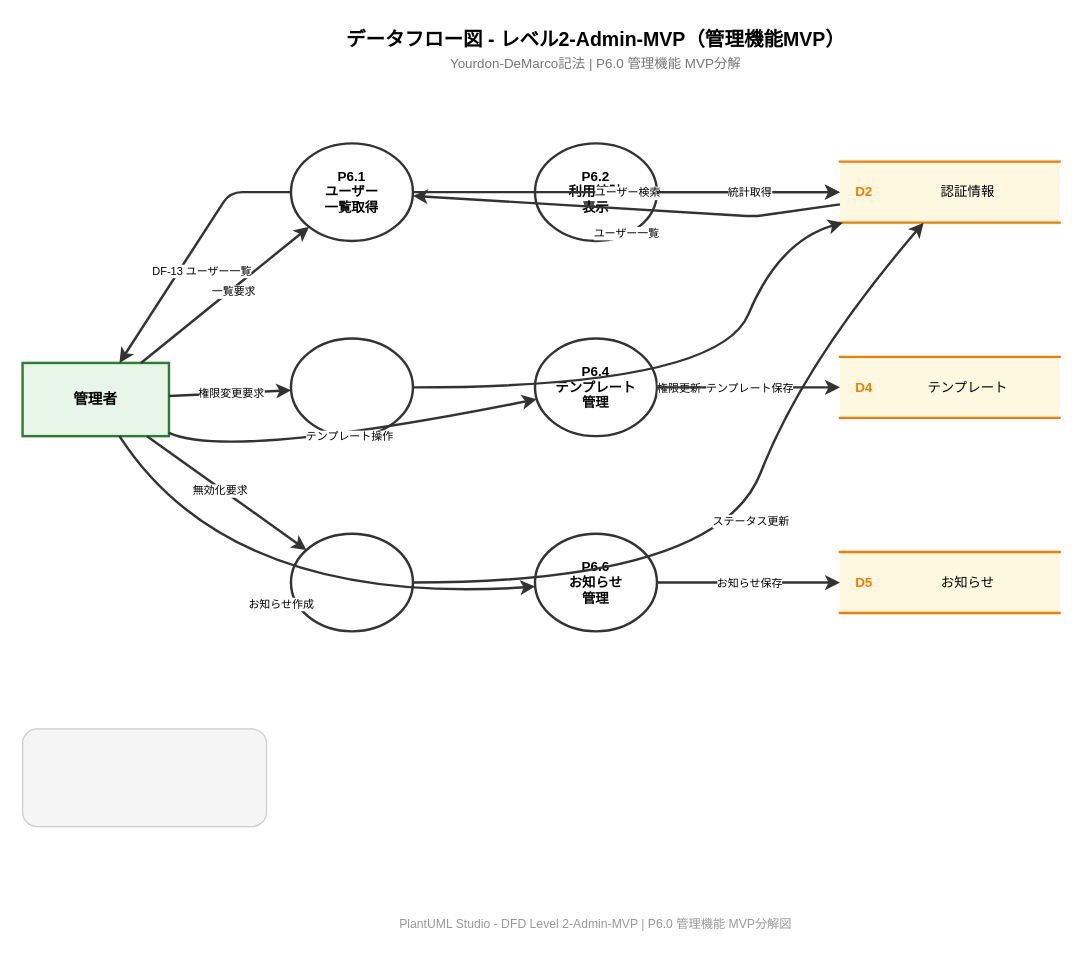
This 1081x956 diagram has some shape labels left out. The box of each missing label's shape, as (x1, y1, x2, y2) in pixels:
MVP管理機能 UC 5-1, 5-2〜5-5, 5-7, 5-8, 5-13 ユーザー/テンプレート/お知らせCRUD: (21, 728, 267, 827)
P6.3 ユーザー 権限変更: (289, 337, 414, 437)
P6.5 無効化 処理: (289, 532, 414, 632)
